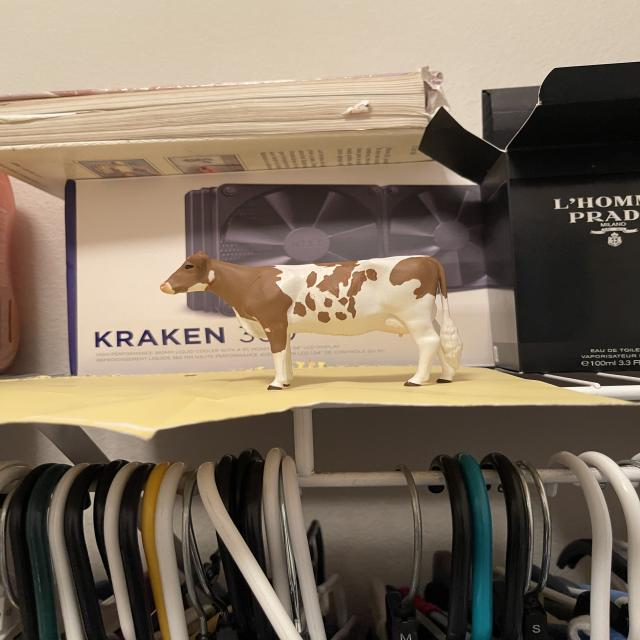cow: (158, 251, 464, 393)
